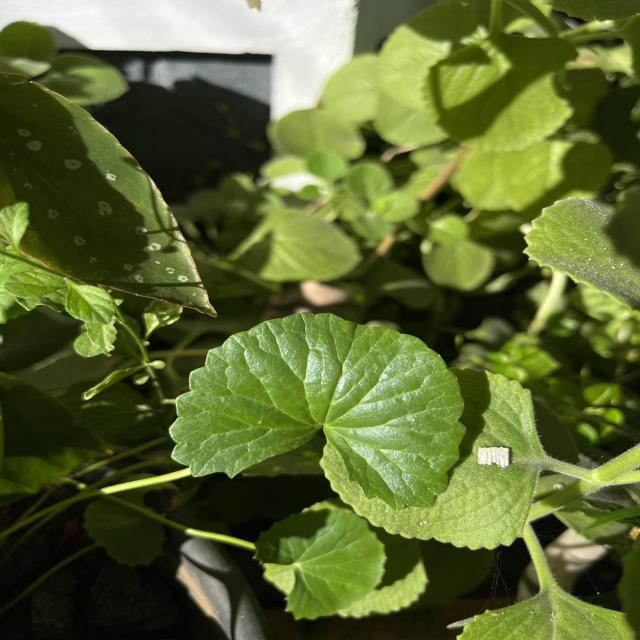Centella asiatica: (163, 309, 470, 513)
